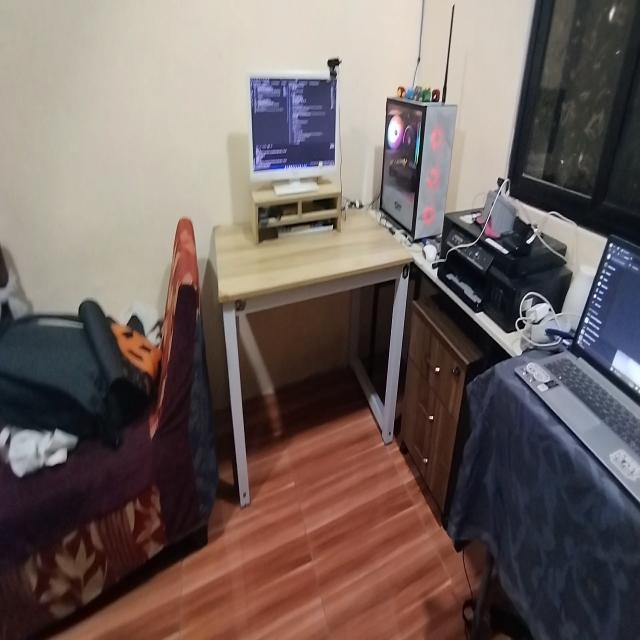table: (210, 208, 414, 492)
